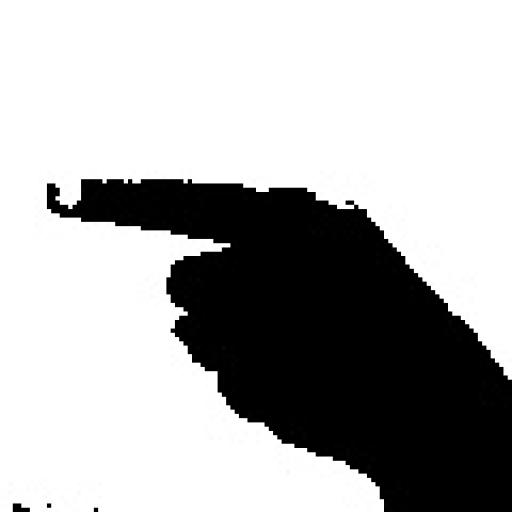index_left: (42, 175, 512, 401)
